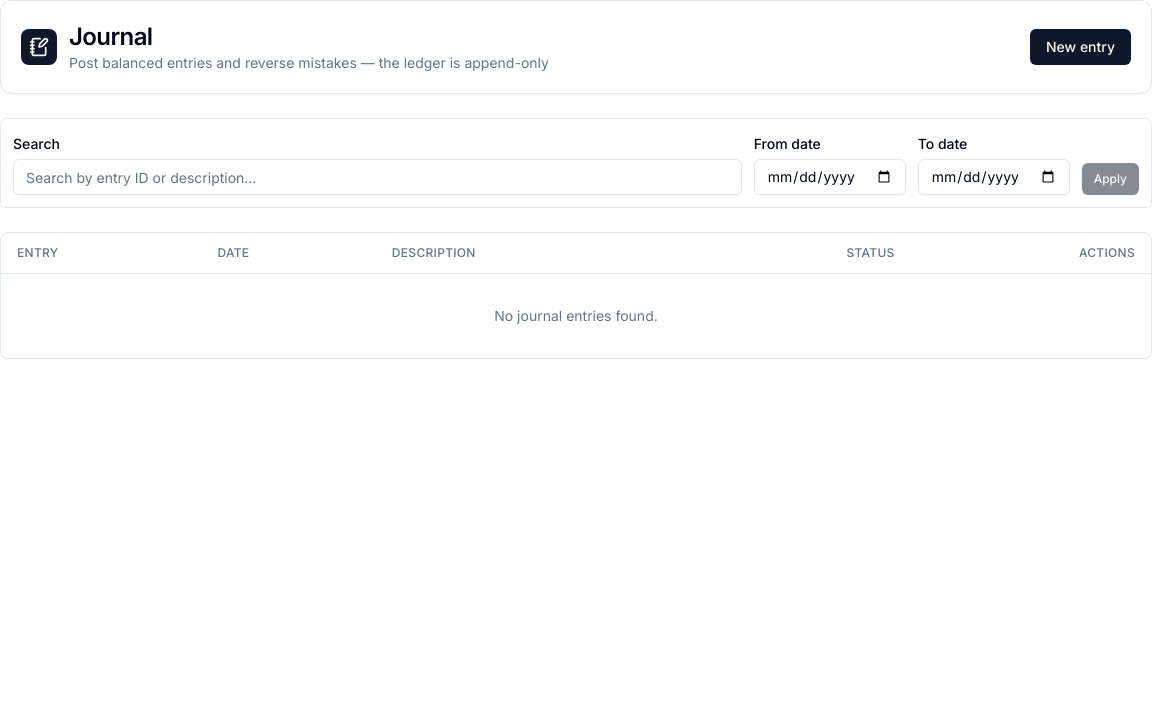
Test: JournalView — live balance validation (ACC-1/ACC-4) › starts with two lines and the Post button disabled
The width and height of the screenshot is (1152, 720).
Click the button "New entry": [1080, 47] box top-left (1030, 29), bottom-right (1131, 65)
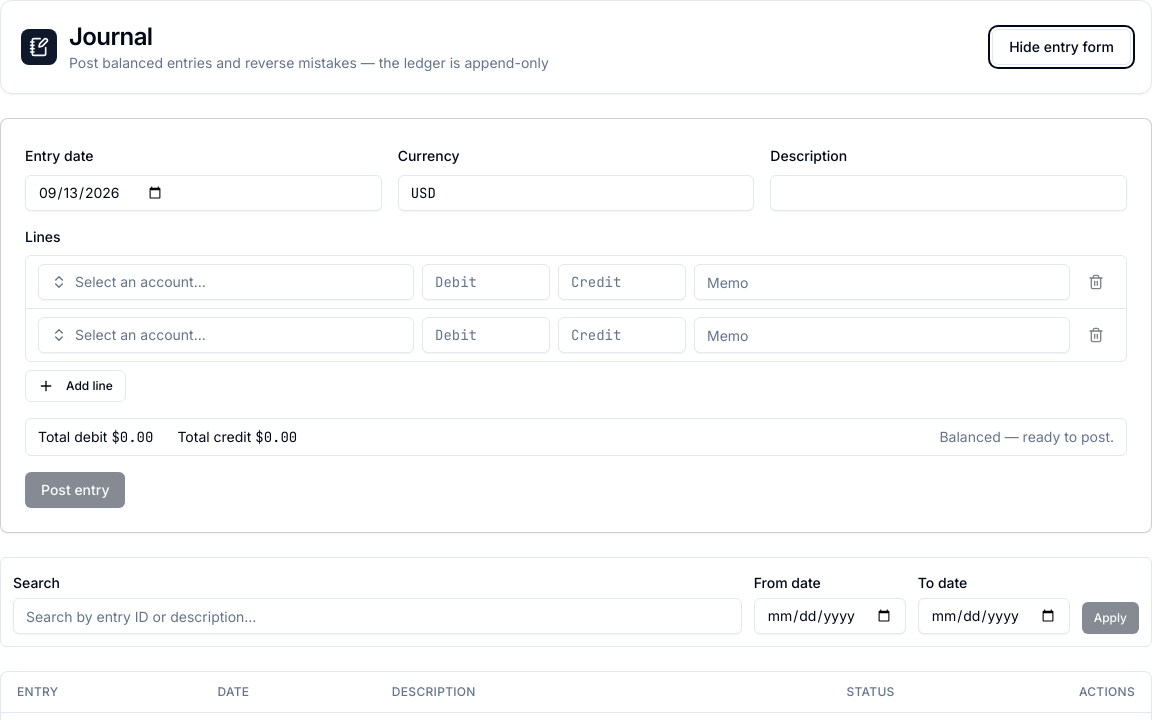
Now the button "Post entry" is disabled, box top-left (25, 472), bottom-right (126, 508)
Now the text "Balanced — ready to post." is shown, box top-left (940, 427), bottom-right (1114, 447)
